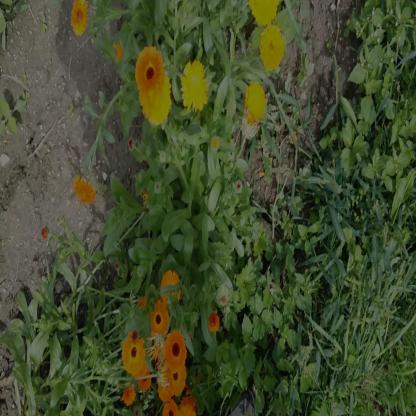marigold: (138, 77, 172, 123), (183, 59, 207, 113), (135, 46, 164, 90), (121, 328, 143, 375), (245, 80, 268, 120), (261, 26, 282, 69), (249, 0, 278, 25), (166, 333, 186, 368), (166, 360, 186, 392), (69, 0, 87, 35), (149, 302, 168, 335)
